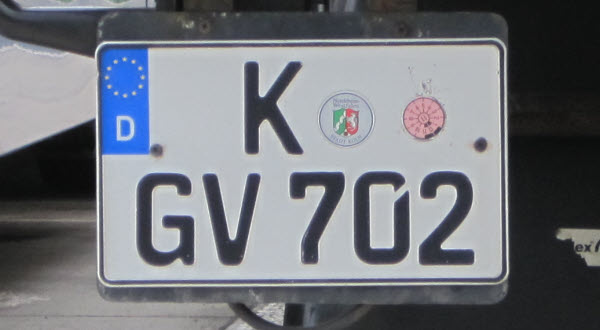license_plate: (94, 39, 510, 284)
